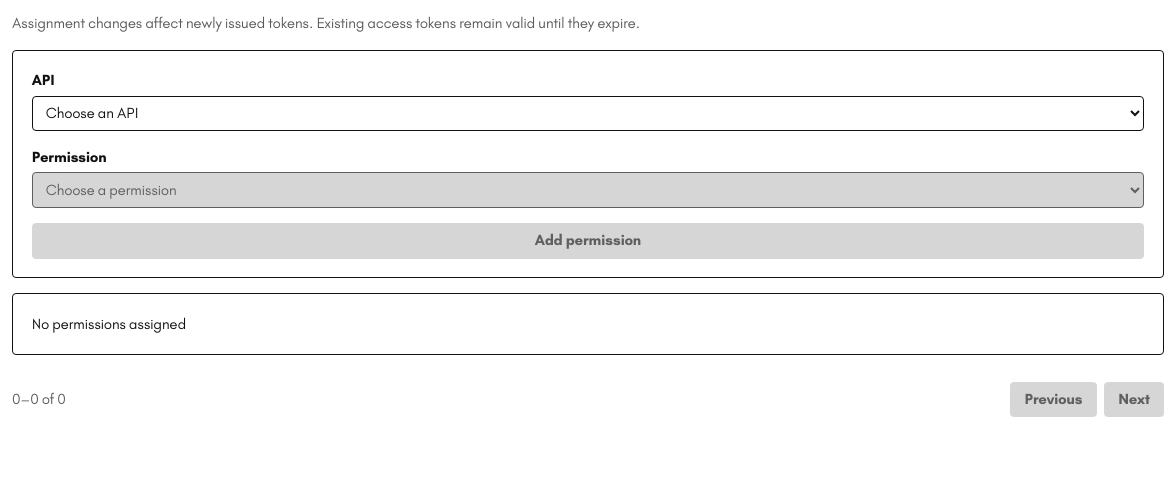
Test: groups selectable permissions by API and adds the selected API permission
Select "Orders" in the dropdown labelled "API": (588, 113) [32,96,1144,131]
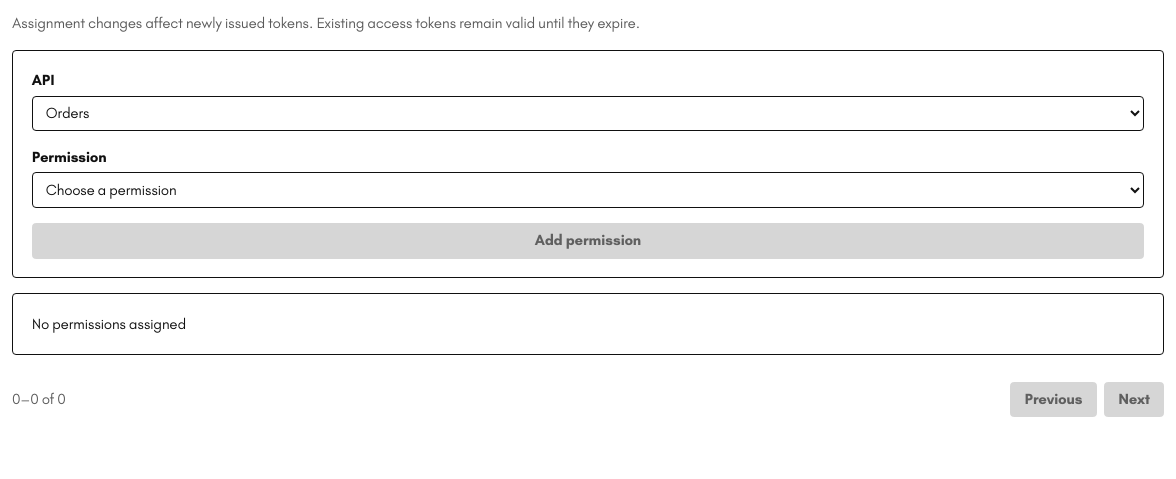
Select "read:x — Read orders" in the dropdown labelled "Permission": (588, 190) [32,172,1144,208]
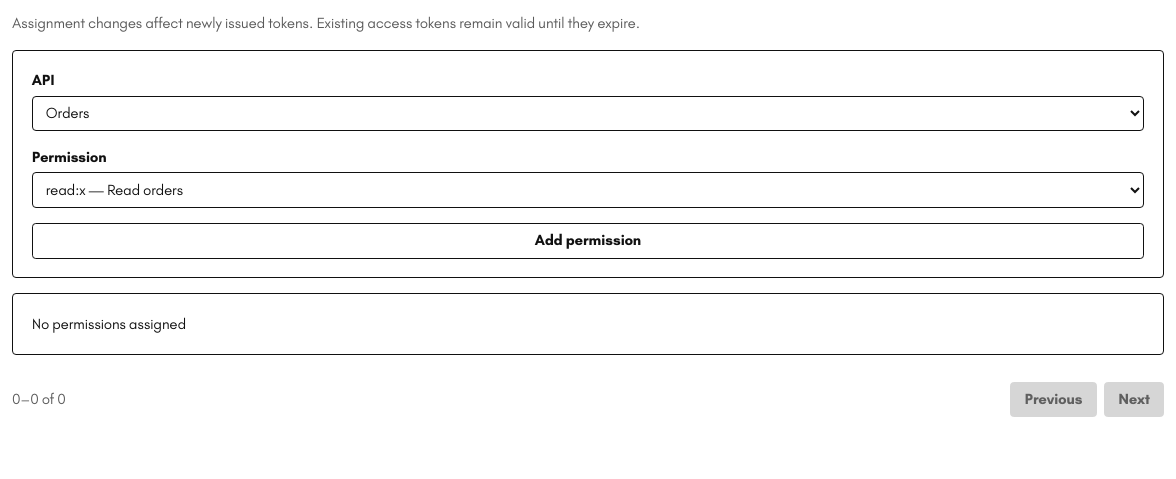
Submit the form, box [12,50,1164,278]
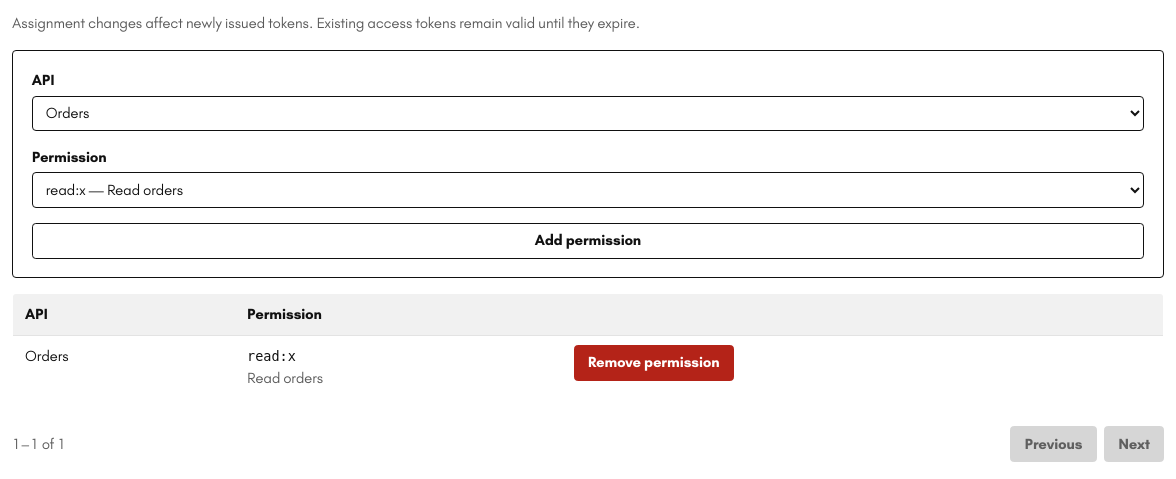
Expected: the text "read:x" is shown, [247,348,296,364]
